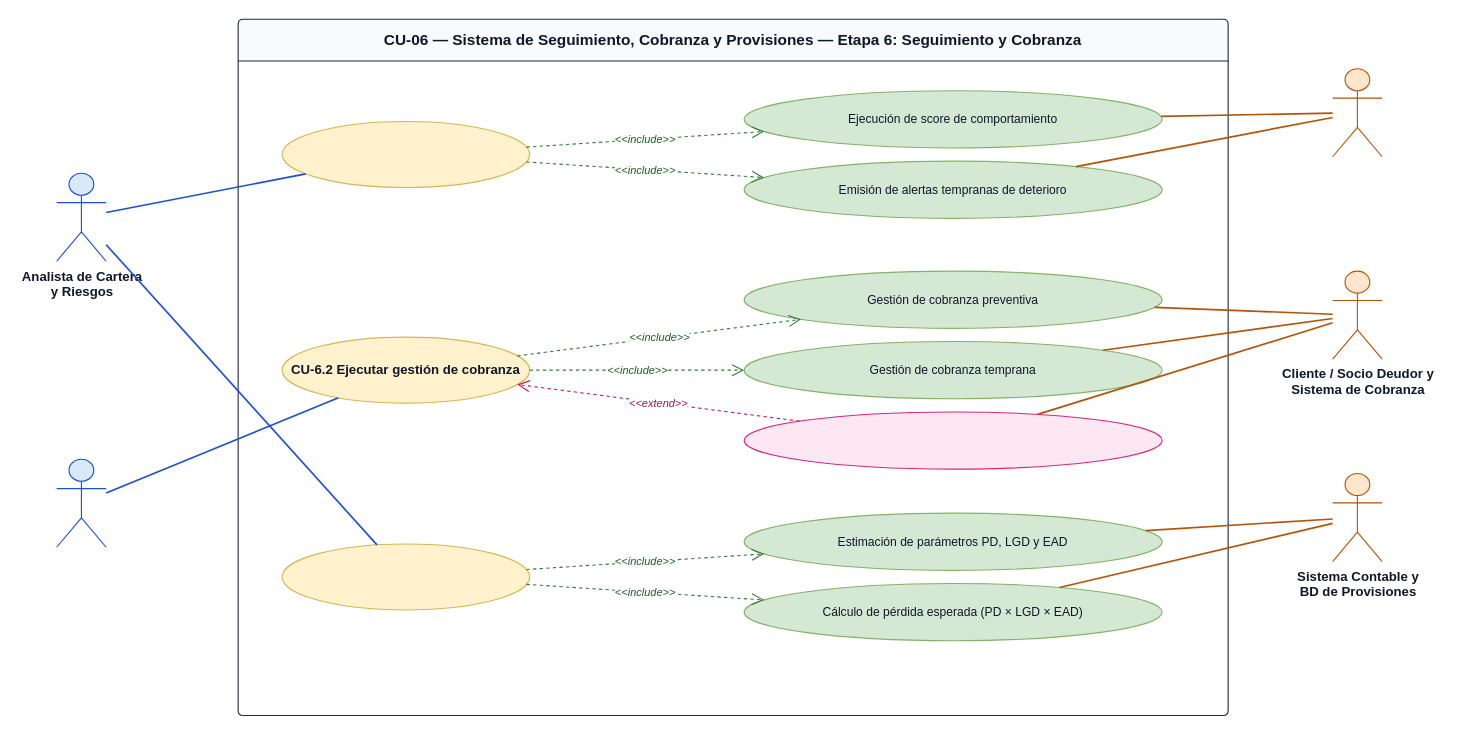
The diagram is 1464 pixels wide and 735 high, and some of its shapes have lost their labels. The shapes that lost their labels are listed below. From the top down, each one's centre as x and y in pixels, then its label:
pixel 1357 112: BD de Monitoreo de Cartera y Motor de Alertas
pixel 405 154: CU-6.1 Monitorear cartera activa
pixel 952 440: Gestión de cobranza judicial
pixel 81 502: Gestor de Cobranza
pixel 405 576: CU-6.3 Calcular provisiones contables
